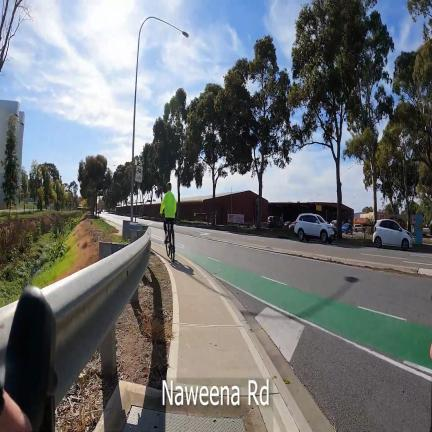Green_Bike_Lane: (206, 260, 432, 368)
